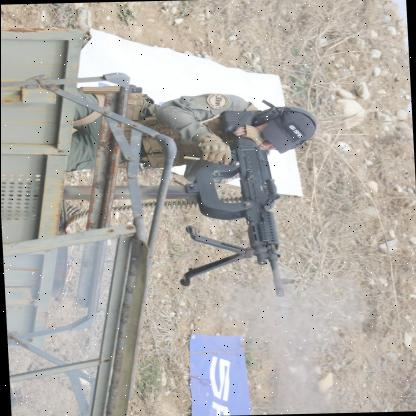rifle: (196, 114, 294, 300)
